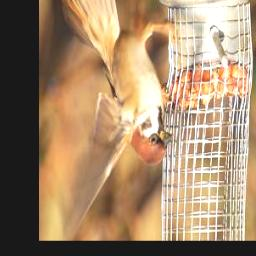Sparrow: (59, 0, 179, 241)
